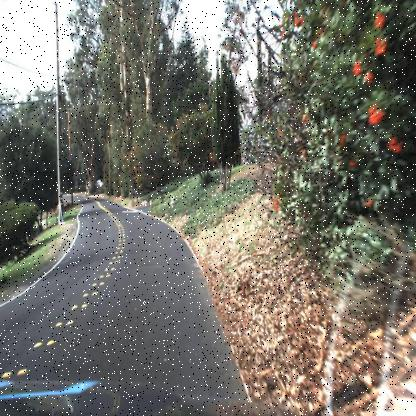car: (96, 174, 109, 192)
